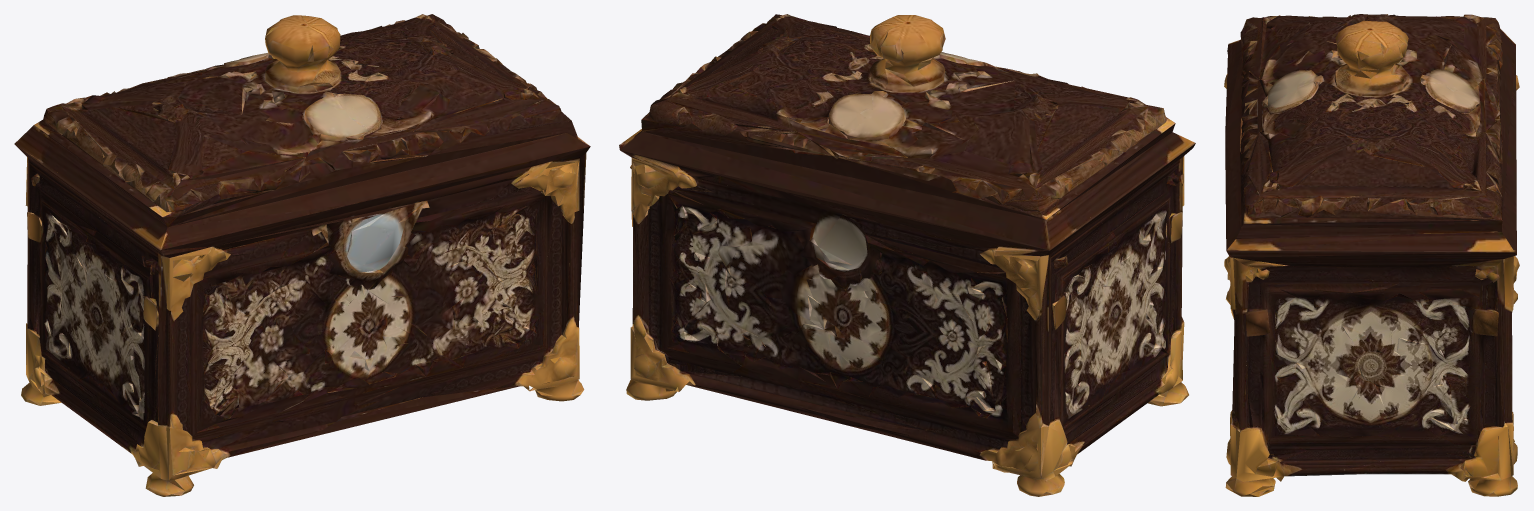
Rendered from box_casket.glb.
The picture shows the model from 3 angles, left to right: view 1: azimuth 30°, elevation 25°; view 2: azimuth 150°, elevation 25°; view 3: azimuth 270°, elevation 25°; orthographic projection.
Visible parts, largest first — view 1: body, lid; view 2: body, lid; view 3: lid, body.
Boxes of the visible parts, x1,y1,x2,y2 form: body: (21,153,586,496); lid: (14,14,590,276); body: (626,156,1188,496); lid: (619,14,1195,267); lid: (1225,14,1517,267); body: (1224,75,1519,496).
Size of the model in its own units: 1.3 by 1.06 by 0.782.
1 material, 1 textured.
